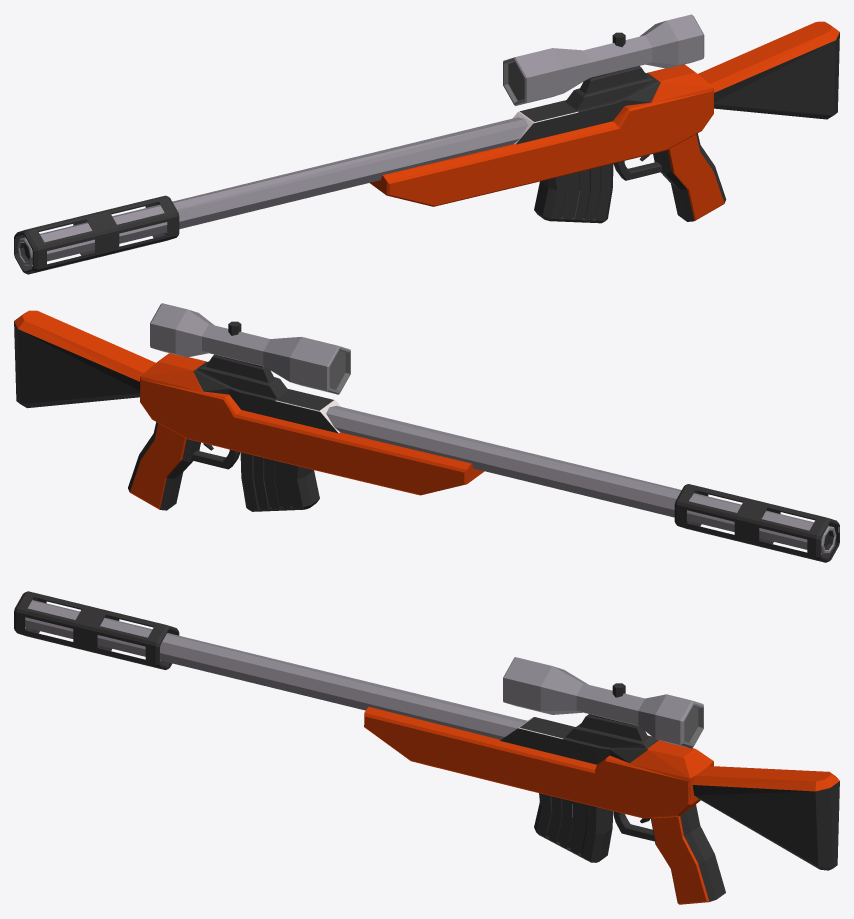
The model's file is sniper.fbx.
3 views of the same model, one above another, from view 1: azimuth 30°, elevation 25°; view 2: azimuth 150°, elevation 25°; view 3: azimuth 330°, elevation 25° (orthographic).
Parts seen in each view (by area): view 1: sniper; view 2: sniper; view 3: sniper.
Part boxes in pixels (x1,y1,x2,y2): sniper: (14,14,839,274); sniper: (14,303,839,562); sniper: (14,591,839,904).
Bounding box in the file's own units: 1.29 × 0.3066 × 0.0679.
